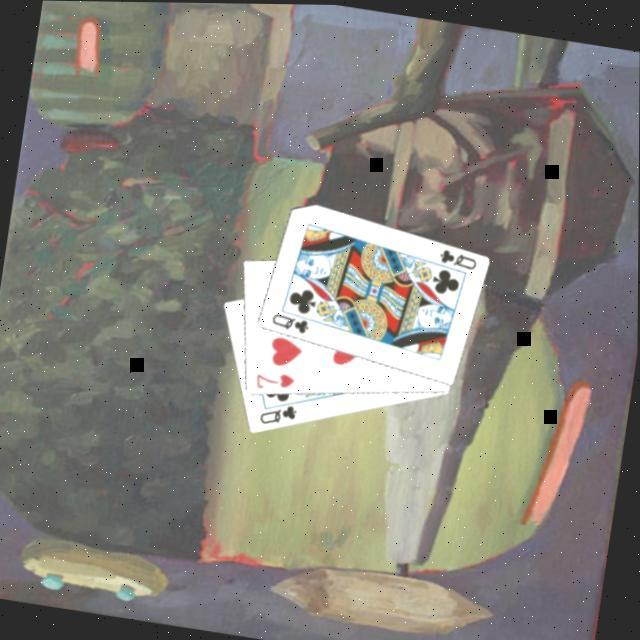7H: (253, 366, 300, 397)
QC: (256, 398, 302, 433), (435, 245, 482, 274), (267, 310, 314, 338)
